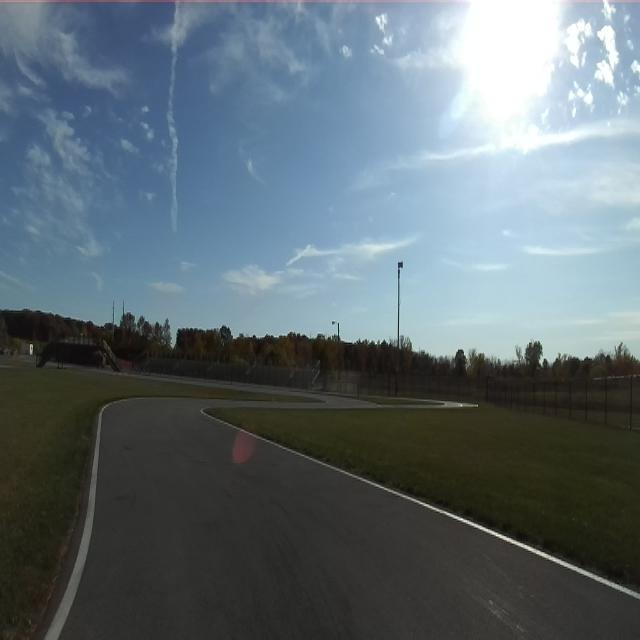white-line: (200, 409, 640, 601), (42, 401, 123, 639)
